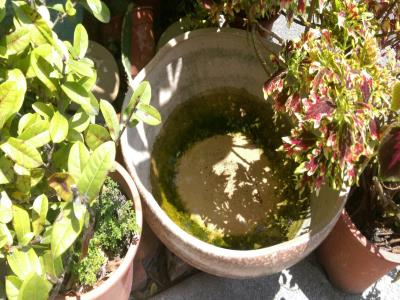bowl: (116, 26, 361, 278)
